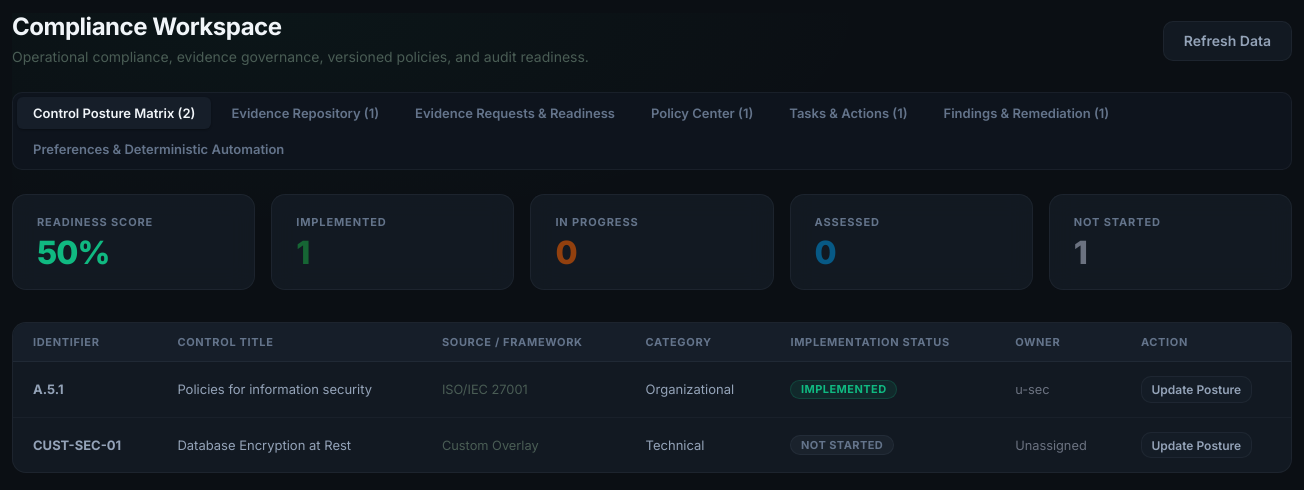
Scenario: ComplianceWorkspace › switches to Policy Center and displays versioned policies
Step 1. Click the tab "Policy Center (1)" → [702, 113], box [635,97,769,129]
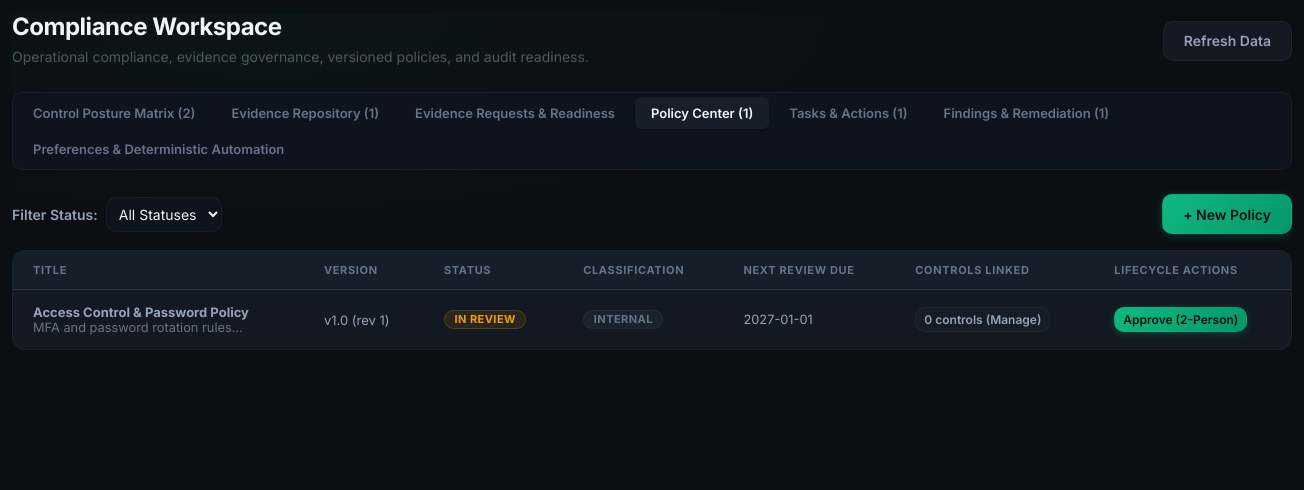
Check: the text "Access Control & Password Policy" is shown, box [33,304,249,320]
Check: the text "v1.0 (rev 1)" is shown, box [304,290,424,349]
Check: the text "in review" is shown, box [444,310,526,329]
